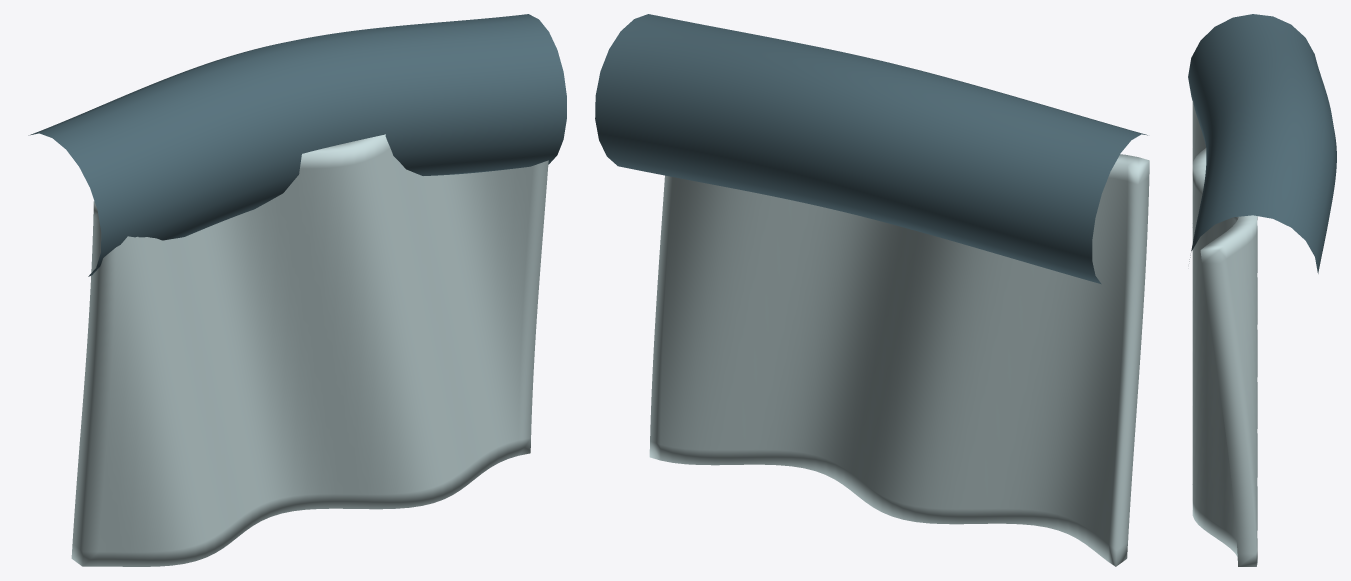
The picture shows the model from 3 angles, left to right: view 1: azimuth 30°, elevation 25°; view 2: azimuth 150°, elevation 25°; view 3: azimuth 270°, elevation 25°; orthographic projection. The views are drawn at different scales.
Parts seen in each view (by area): view 1: falling-sheet, waterfall-lip; view 2: falling-sheet, waterfall-lip; view 3: waterfall-lip, falling-sheet.
Boxes of the visible parts, x1,y1,x2,y2 form: falling-sheet: (71,134,548,566); waterfall-lip: (28,14,566,276); falling-sheet: (649,154,1149,566); waterfall-lip: (595,14,1147,284); waterfall-lip: (1188,14,1336,273); falling-sheet: (1192,100,1257,566).
Bounding box in the file's own units: 2.06 × 1.78 × 0.6391.
